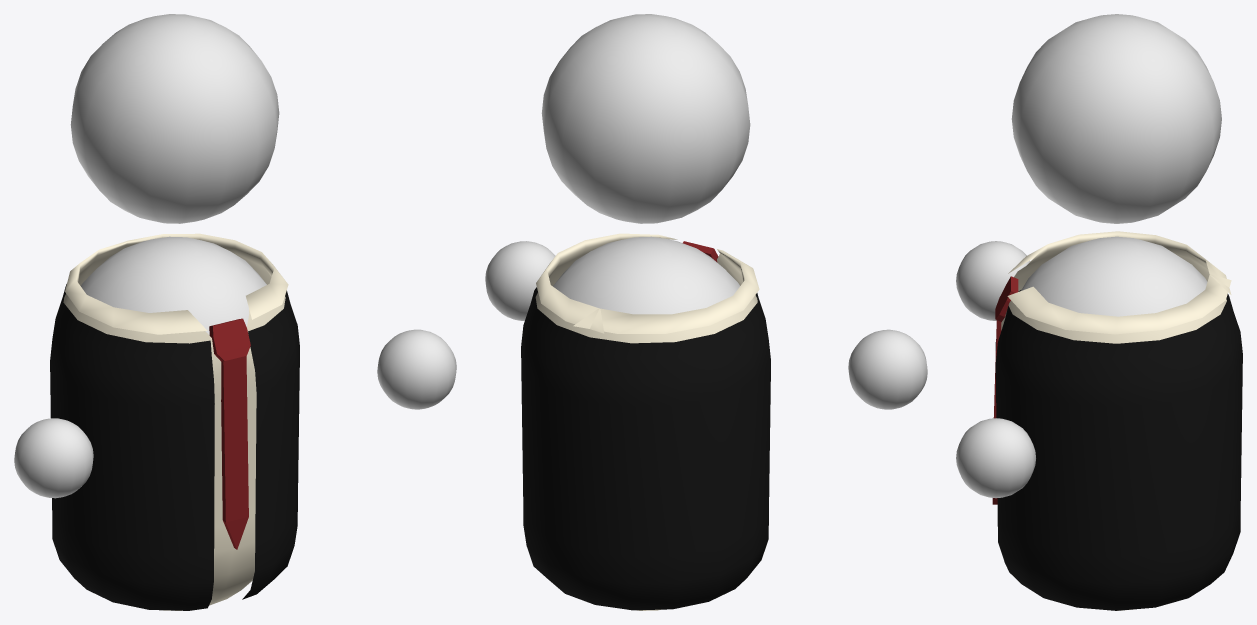
File: Character.fbx
The picture shows the model from 3 angles, left to right: view 1: azimuth 30°, elevation 25°; view 2: azimuth 150°, elevation 25°; view 3: azimuth 270°, elevation 25°; orthographic projection.
Parts seen in each view (by area): view 1: Body.001, Head, Suit, Body, Hands, Plane; view 2: Body.001, Head, Body, Suit, Hands; view 3: Body.001, Head, Body, Suit, Hands, Plane.
Boxes of the visible parts, <box> form: Body.001: <box>50,284,299,610</box>; Head: <box>70,14,279,223</box>; Suit: <box>63,233,288,610</box>; Body: <box>81,236,266,335</box>; Hands: <box>14,329,456,498</box>; Plane: <box>209,318,250,549</box>; Body.001: <box>521,287,770,610</box>; Head: <box>541,14,750,223</box>; Body: <box>553,236,739,314</box>; Suit: <box>535,233,759,610</box>; Hands: <box>485,241,927,409</box>; Body.001: <box>995,290,1242,610</box>; Head: <box>1011,14,1221,223</box>; Body: <box>1021,236,1207,316</box>; Suit: <box>1001,231,1231,610</box>; Hands: <box>956,241,1035,498</box>; Plane: <box>992,276,1018,504</box>.
Size of the model in its own units: 115 by 147 by 66.14.
